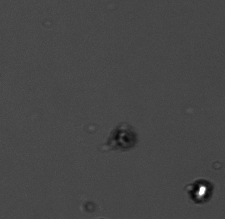Dead Cell: (111, 126, 139, 151)
Living Cell: (188, 177, 213, 204)
